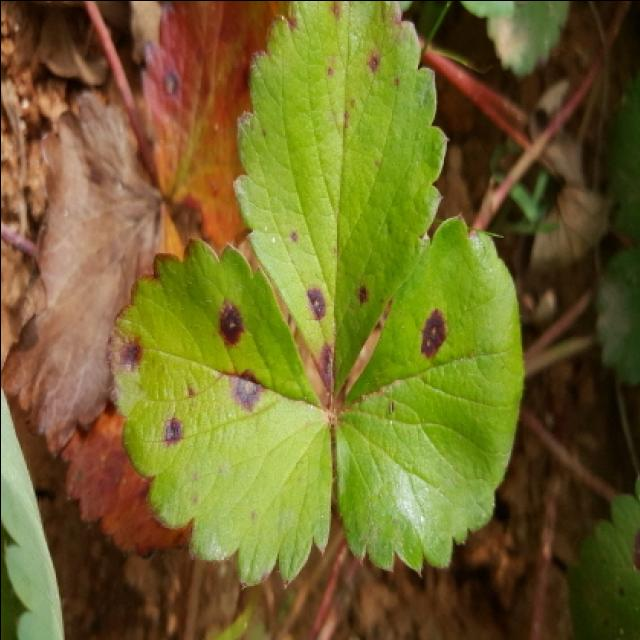Leaf Spot: (230, 2, 447, 399), (104, 233, 332, 591), (330, 210, 524, 578), (139, 2, 287, 270), (566, 467, 640, 640)
